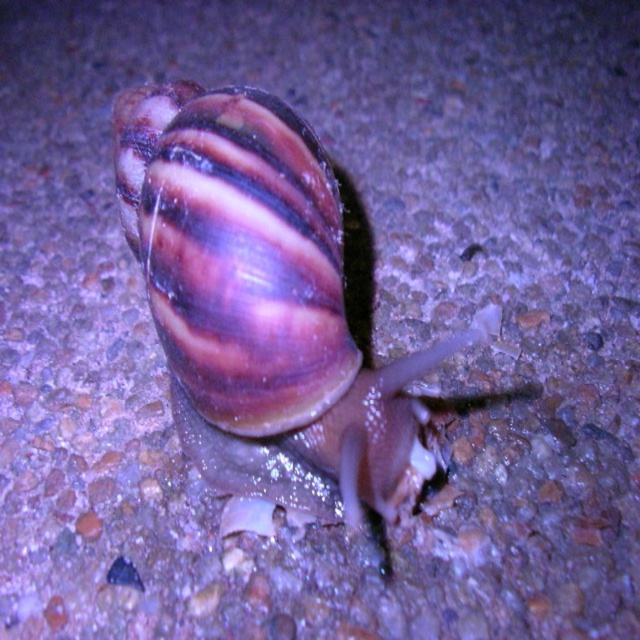Snail: (108, 75, 523, 575)
